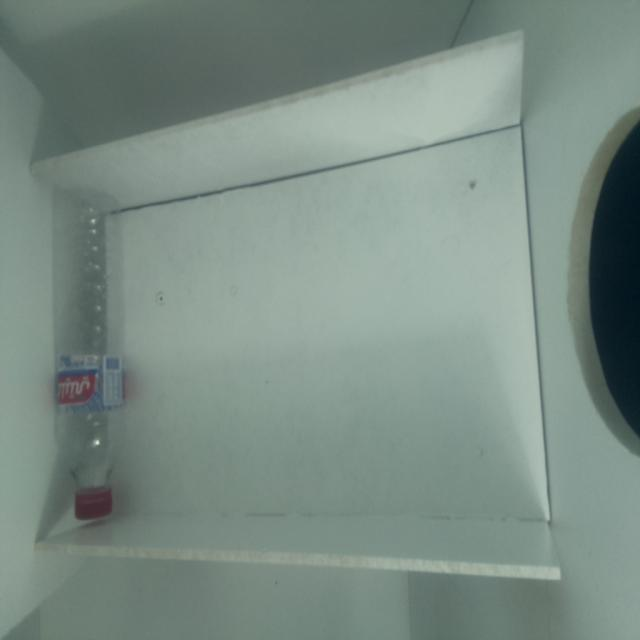Anorganik: (48, 191, 135, 513)
